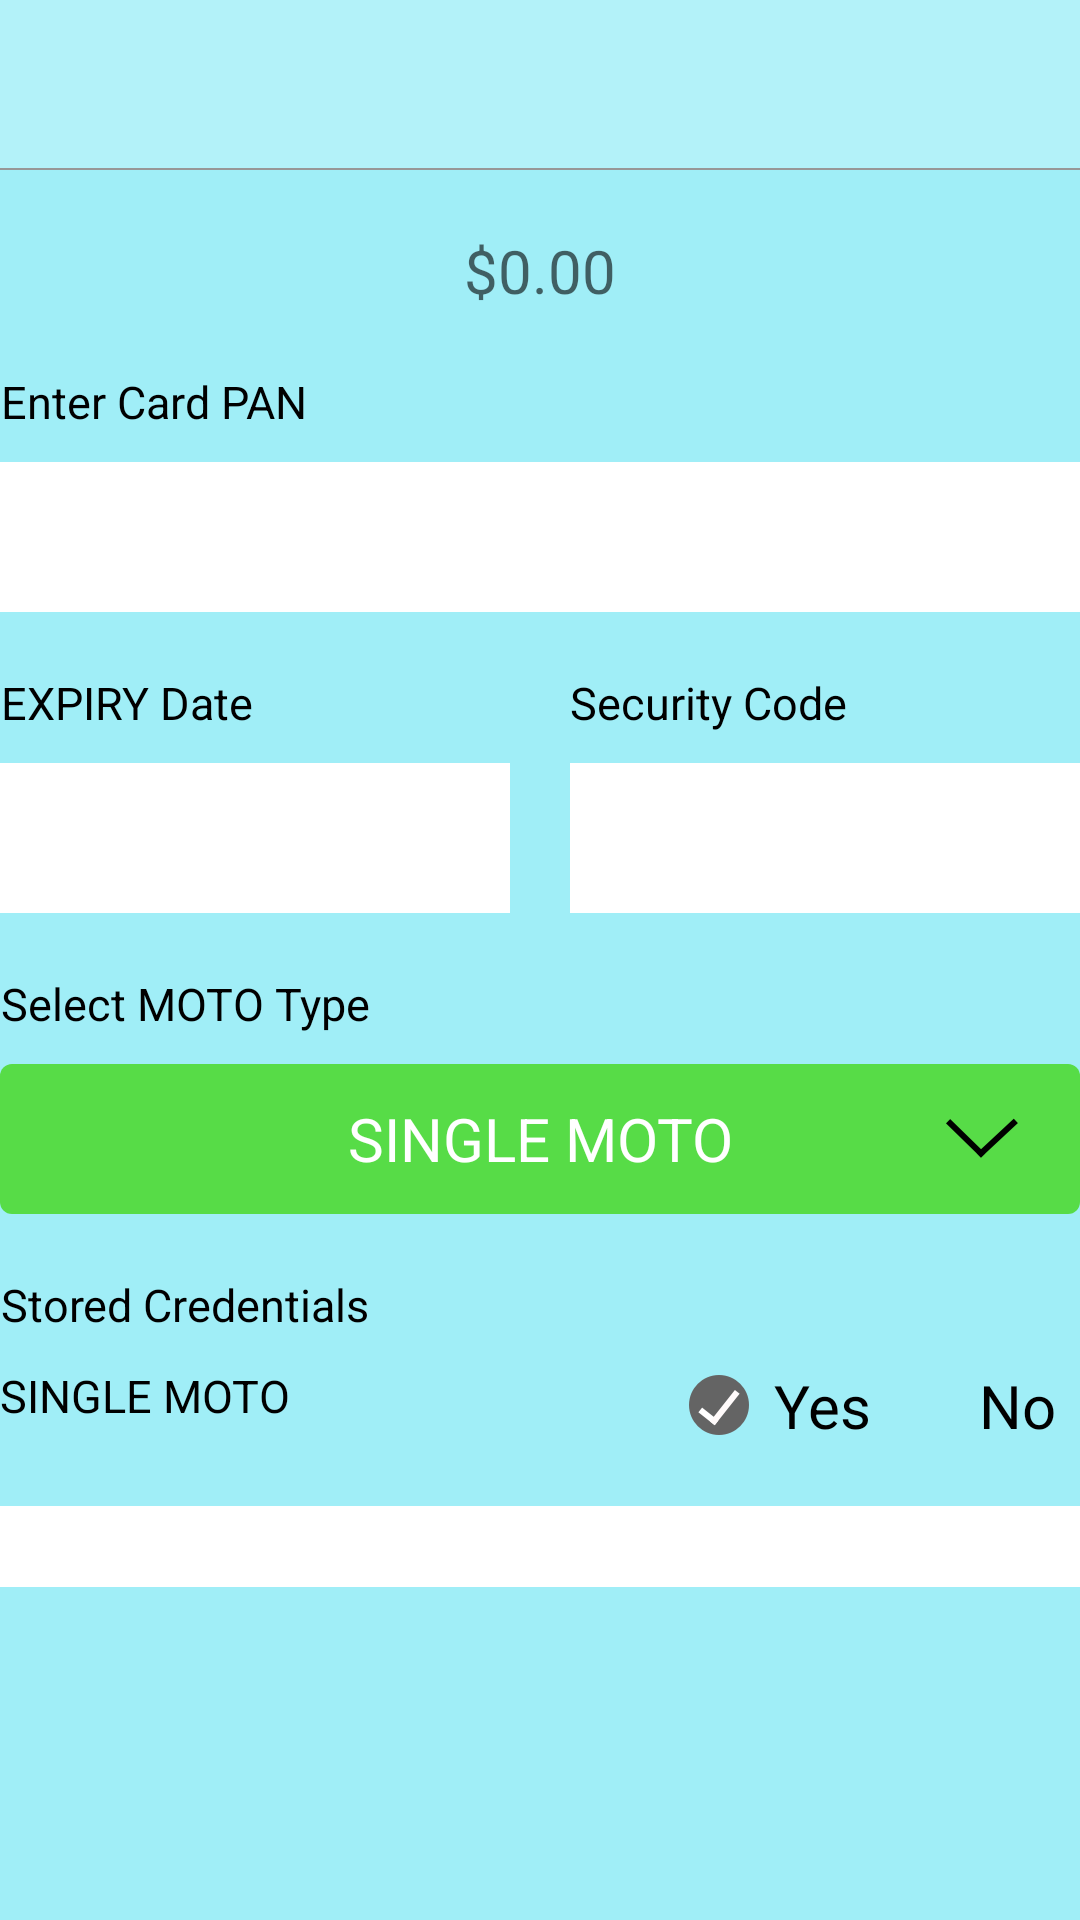

Named icons in this screenshot (1080w x 1920h) and their centers, point (x, y):
Select MOTO Type: point (982, 1138)
